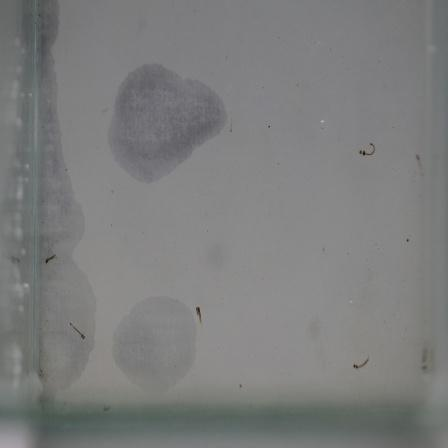Jentik-Nyamuk: (66, 318, 89, 345), (356, 139, 379, 161), (349, 352, 374, 372), (192, 303, 208, 327), (43, 248, 58, 267)
